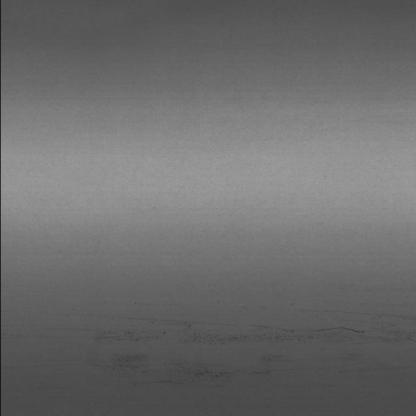inclusion: (90, 354, 374, 386)
water_spot: (98, 308, 406, 348)
